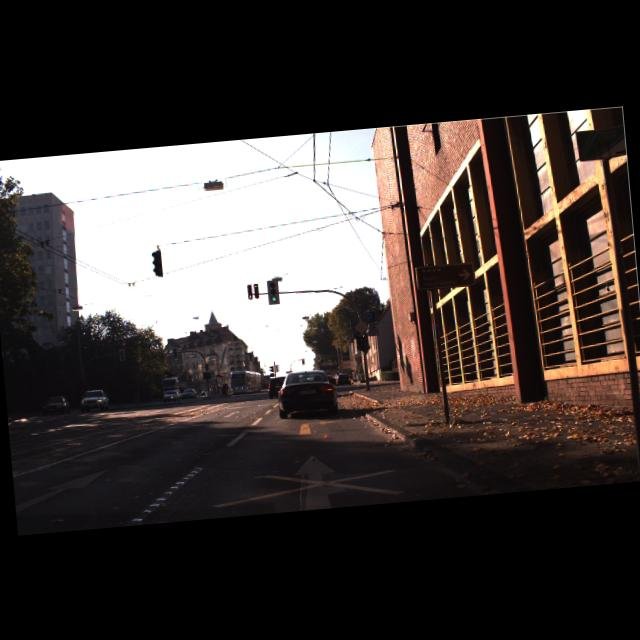other: (353, 318, 368, 333)
